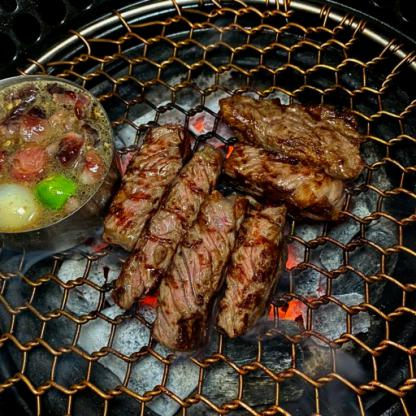Carne: (118, 136, 235, 312), (150, 182, 254, 354), (222, 94, 376, 182), (215, 202, 291, 344), (105, 124, 194, 244), (219, 141, 352, 220)
